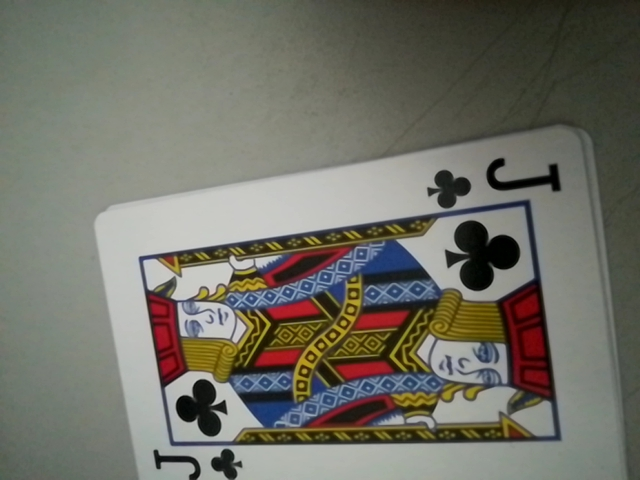mh j: (423, 148, 566, 211), (147, 440, 243, 480)
